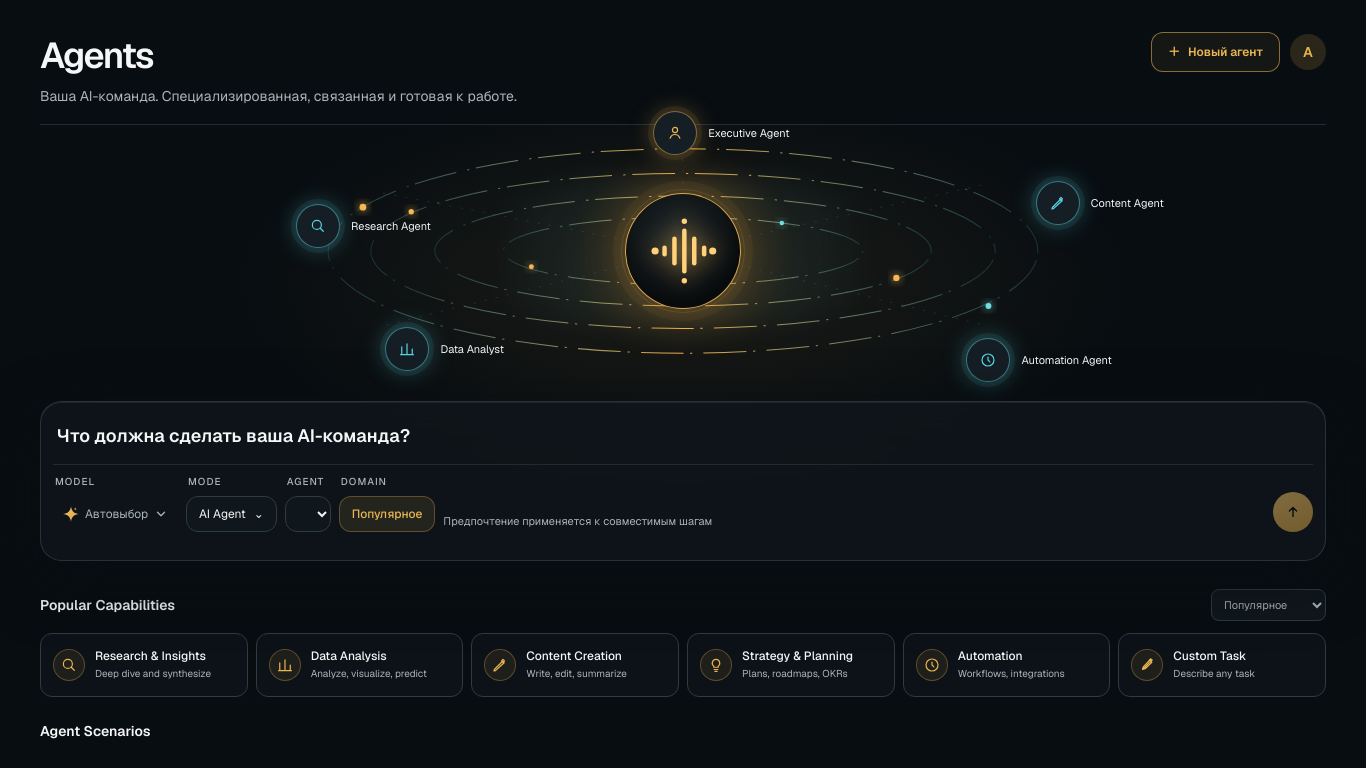
Scenario: AgentsPage › keeps the active capability chip inside the Agents composer
Select "Исследования" in the dropdown named "Категория агентов". click: (1268, 605)
box: x1=1211 y1=589 x2=1326 y2=621
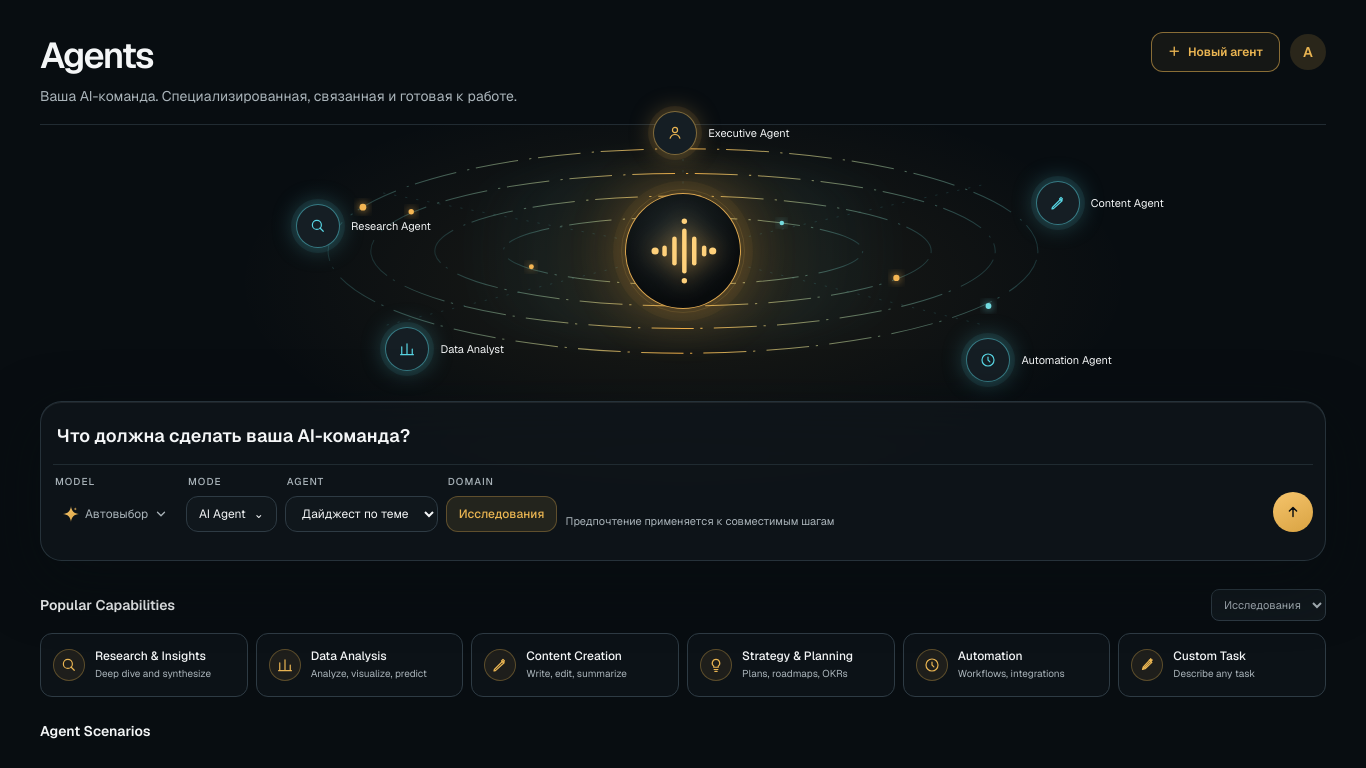
Expected: the message named "Активная возможность: Исследования" is shown, x1=446 y1=496 x2=558 y2=532
